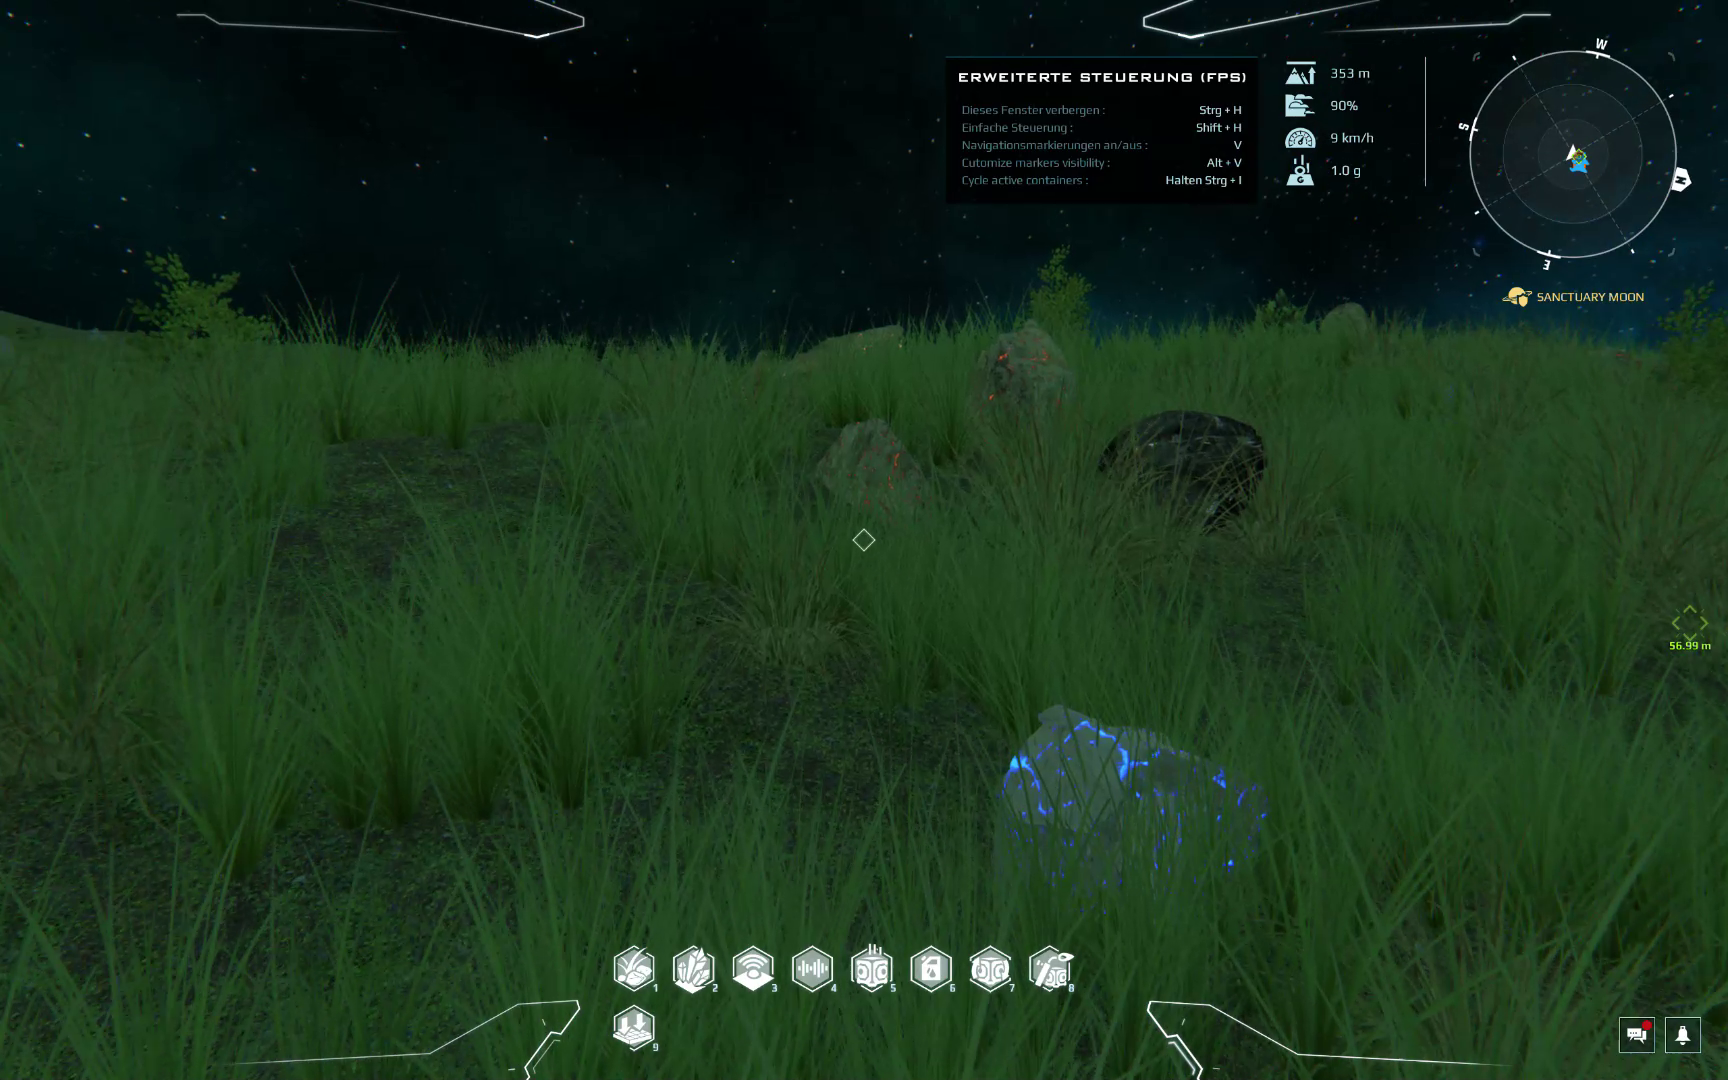Ore: (996, 705, 1274, 900), (1100, 408, 1266, 533), (969, 320, 1079, 440), (817, 416, 929, 513), (787, 324, 909, 370)
